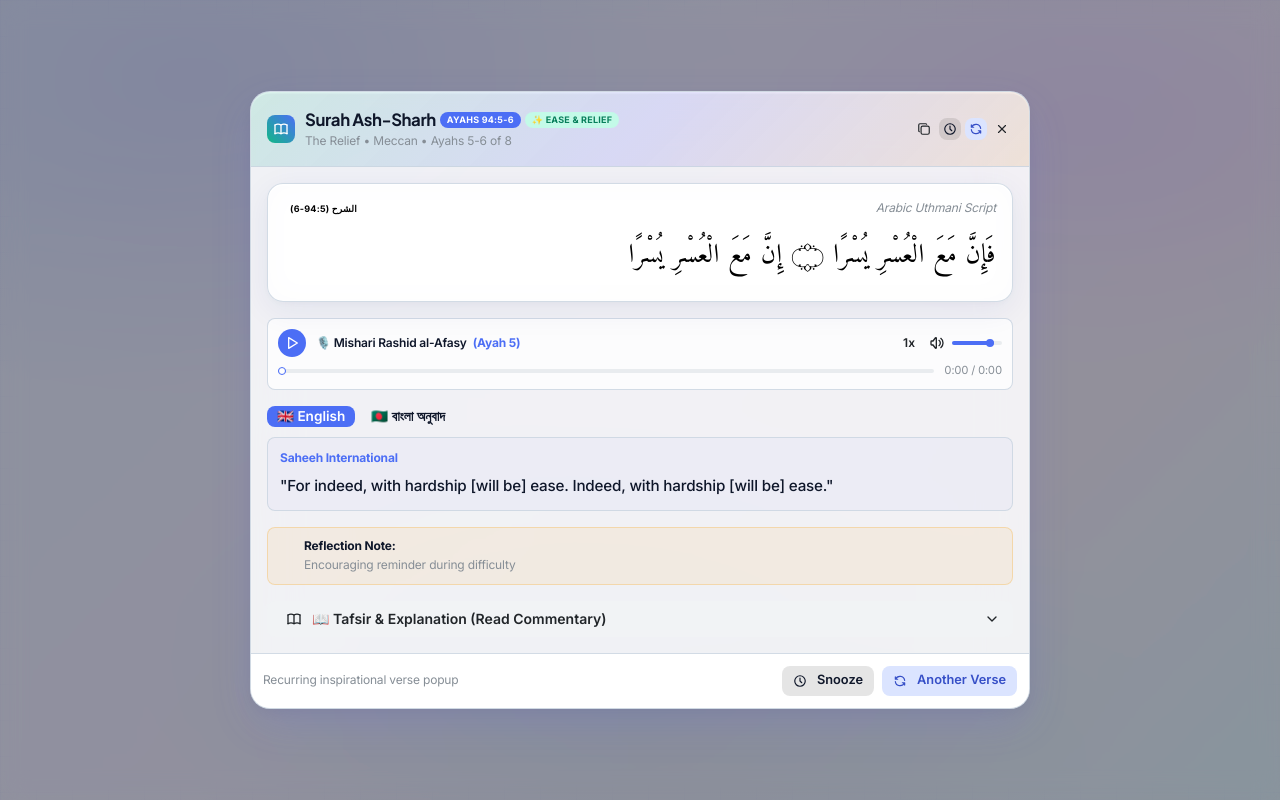
it: QuranVerseModal Component › expands tafsir collapsible commentary when clicked
The width and height of the screenshot is (1280, 800).
Expected: the text "📖 Tafsir & Explanation (Read Commentary)" is shown, [312,609,606,629]
Click the button "📖 Tafsir & Explanation (Read Commentary)": (394, 618) [267,601,1013,637]
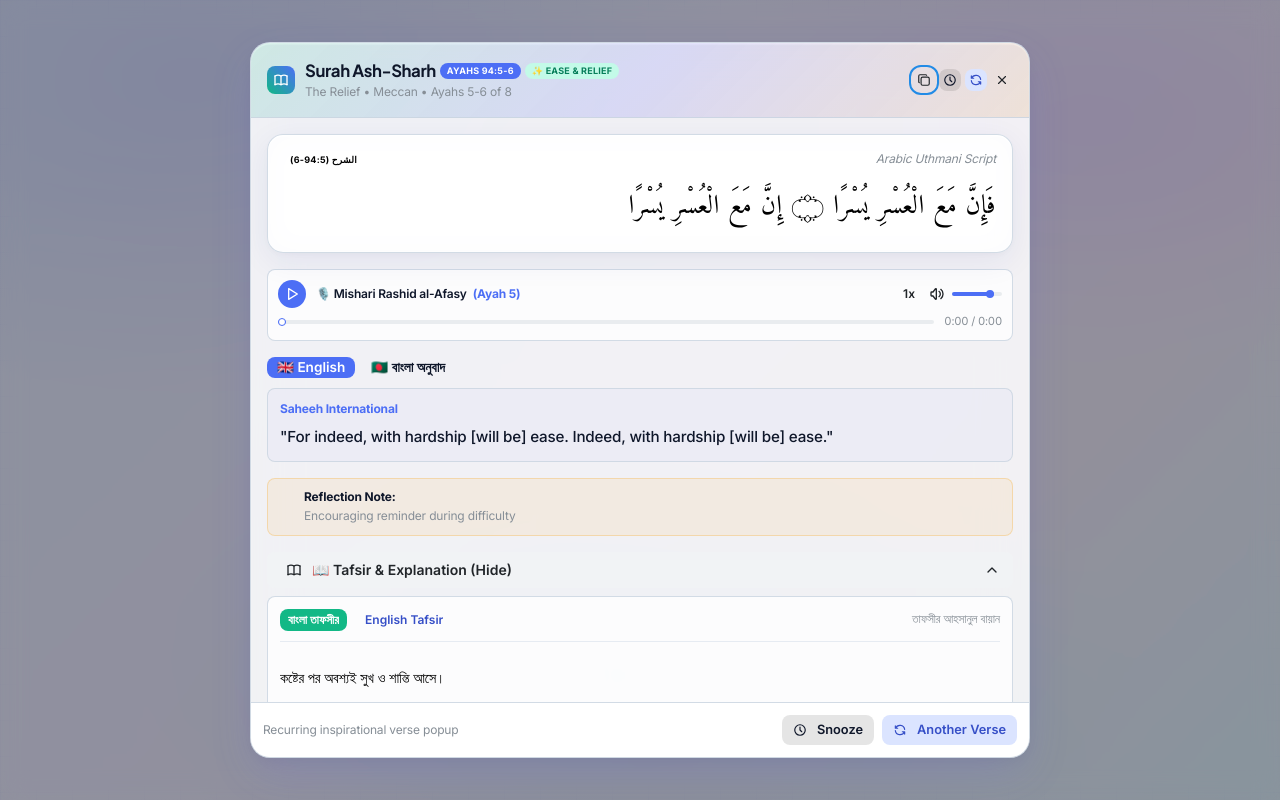
Now the text "কষ্টের পর অবশ্যই সুখ ও শান্তি আসে।" is shown, box [280,669,446,686]
